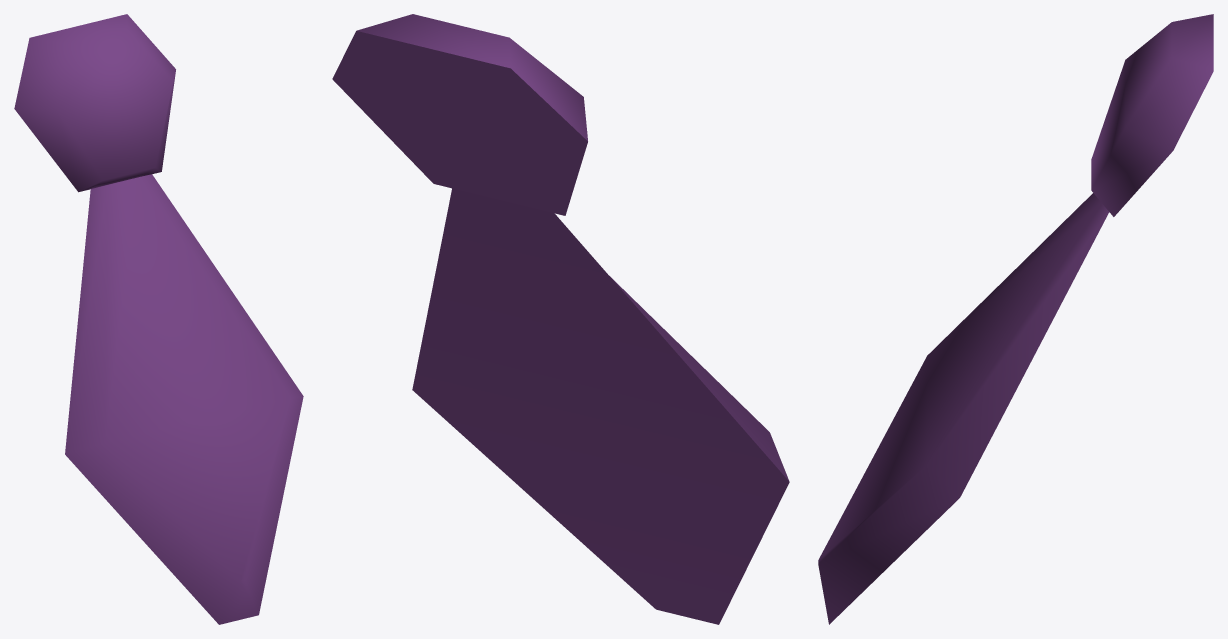
The model's file is necktie_1.fbx.
3 views of the same model, side by side, from view 1: azimuth 30°, elevation 25°; view 2: azimuth 150°, elevation 25°; view 3: azimuth 270°, elevation 25° (orthographic). The views are drawn at different scales.
Parts seen in each view (by area): view 1: necktie_1; view 2: necktie_1; view 3: necktie_1.
Part boxes in pixels (<box>): necktie_1: <box>14,14,303,624</box>; necktie_1: <box>332,14,789,624</box>; necktie_1: <box>818,14,1213,624</box>.
Size of the model in its own units: 22.03 by 42.24 by 26.41.
Materials: 1 (1 with a texture image).
